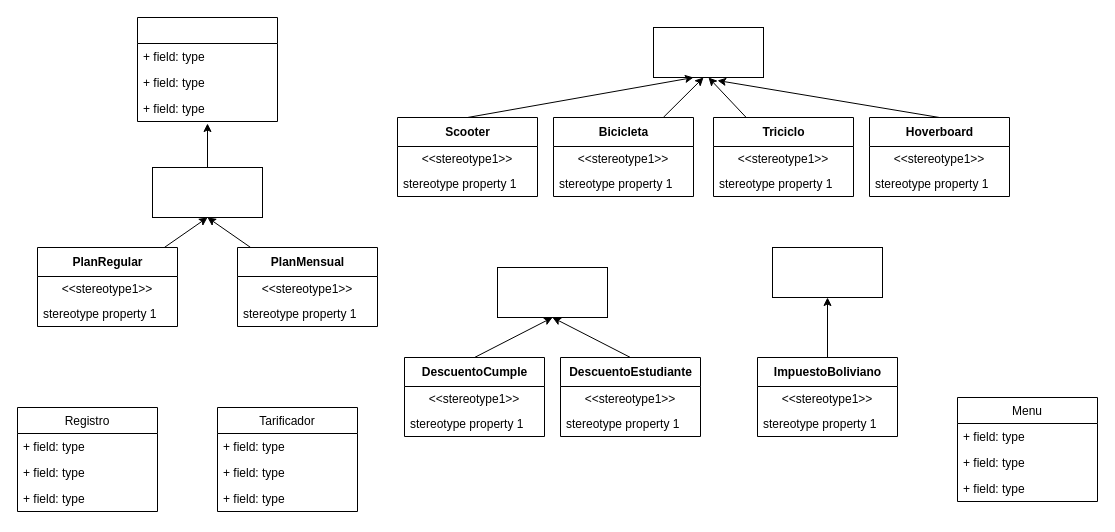
Some shapes in this 1115 by 532 pixel diagram are drawn without their labels. The shapes that lost their labels are listed below. From the top down, each one's box as (x1, y1, x2, y2) in pixels, then its label:
(136, 16, 278, 122): Usuario
(652, 26, 764, 78): «IVehiculo» Name
(152, 166, 262, 218): «IPlan» Name
(496, 266, 608, 318): «IDescuento» Name
(772, 246, 882, 298): «IImpuesto» Name
